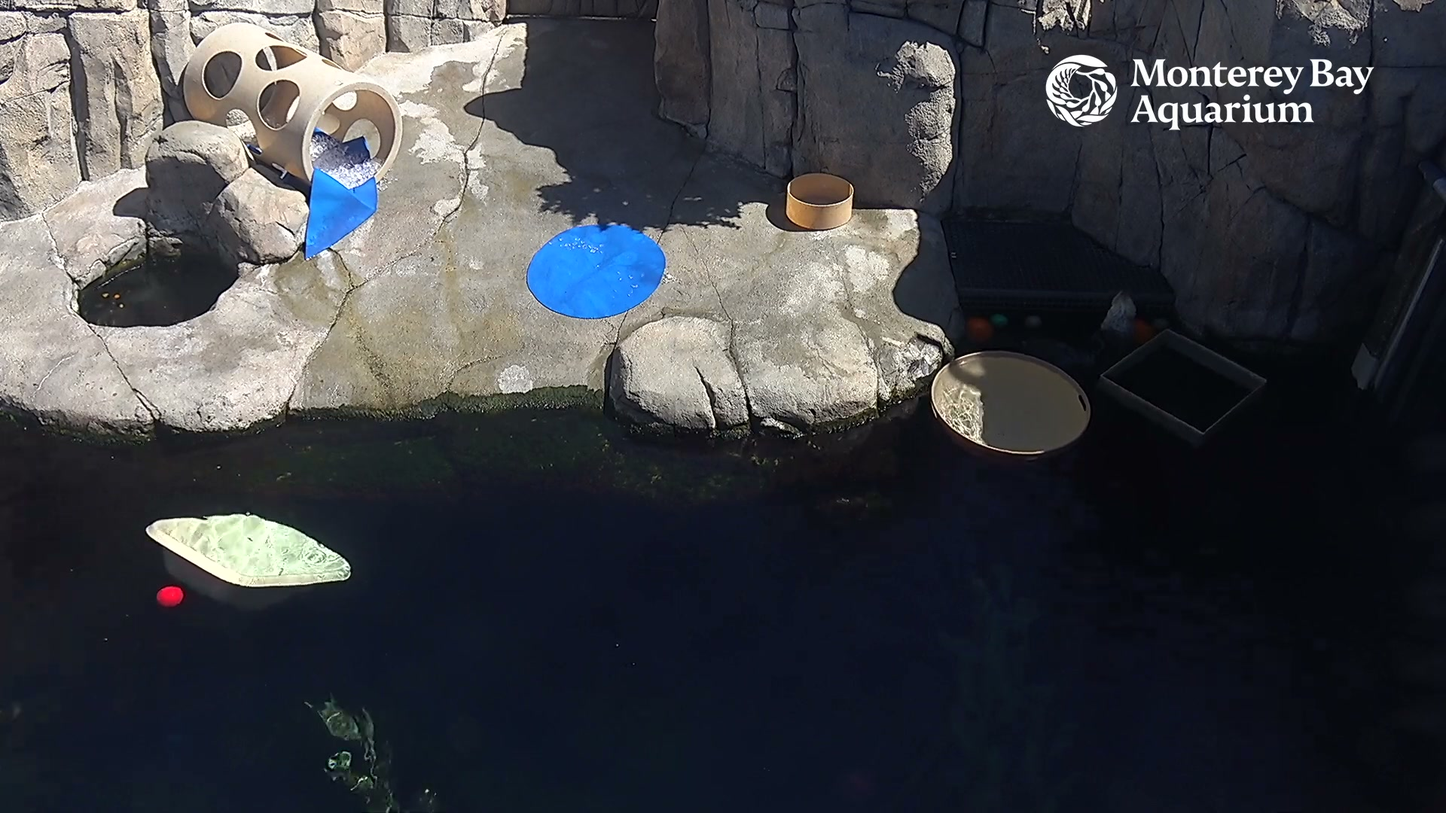Southern Sea Otter: (1087, 278, 1157, 388)
